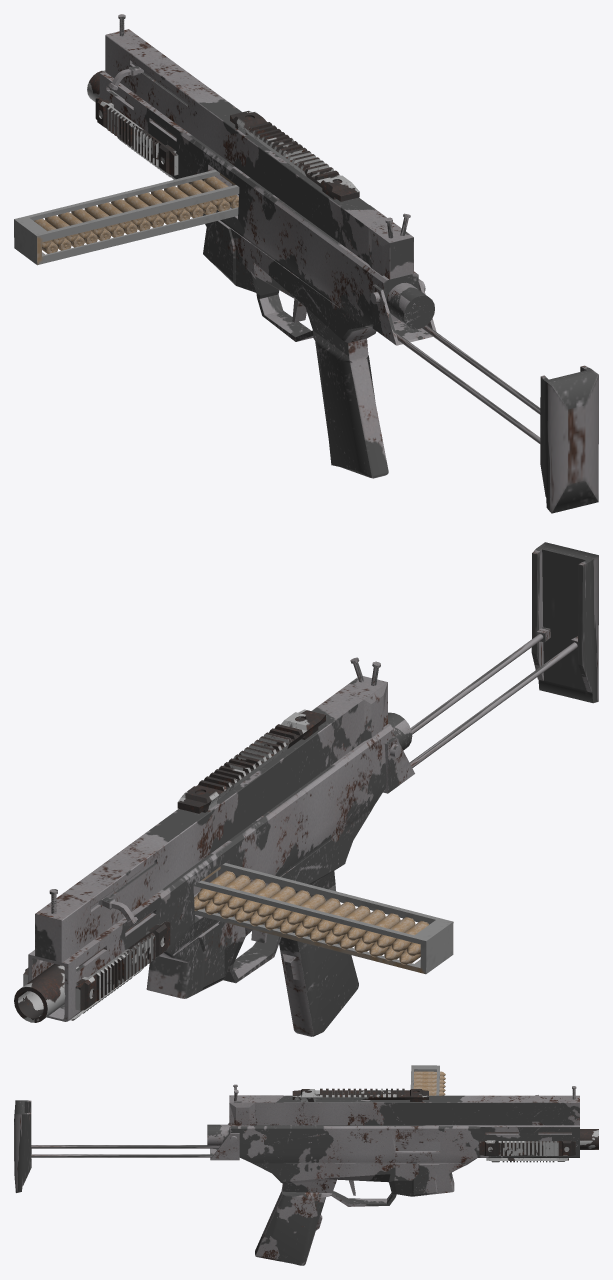
Rendered from Submachinegun.fbx.
3 renders of one model, top to bottom at view 1: azimuth 30°, elevation 25°; view 2: azimuth 150°, elevation 25°; view 3: azimuth 270°, elevation 25°, orthographic. The views are drawn at different scales.
Visible parts, largest first — view 1: pCube46, pCube32, pCube44, pCube15, pCube9, pCylinder31, pCube31, pCylinder35, pCylinder34; view 2: pCube46, pCube32, pCube44, pCube15, pCube9, pCylinder30, pCylinder35, pCylinder34, pCube31; view 3: pCube46, pCube15, pCube32, pCube8, pCylinder35, pCylinder34, pCube31, pCylinder30, pCylinder31, pCube44, pCube28.
Boxes of the visible parts, box(x1,y1,x2,y2) form: pCube46: box(99, 29, 418, 478); pCube32: box(540, 365, 598, 513); pCube44: box(14, 169, 239, 265); pCube15: box(230, 110, 359, 201); pCube9: box(95, 97, 178, 175); pCylinder31: box(386, 282, 434, 329); pCube31: box(372, 279, 436, 345); pCylinder35: box(395, 332, 540, 443); pCylinder34: box(422, 325, 540, 414); pCube46: box(28, 676, 393, 1036); pCube32: box(531, 542, 598, 703); pCube44: box(194, 863, 453, 974); pCube15: box(177, 709, 325, 813); pCube9: box(75, 921, 170, 1010); pCylinder30: box(14, 913, 150, 1022); pCylinder35: box(409, 642, 577, 767); pCylinder34: box(410, 634, 543, 734); pCube31: box(383, 737, 414, 793); pCube46: box(229, 1095, 579, 1265); pCube15: box(292, 1088, 428, 1101); pCube32: box(14, 1100, 31, 1192); pCube8: box(479, 1140, 575, 1155); pCylinder35: box(31, 1145, 219, 1148); pCylinder34: box(31, 1154, 213, 1157); pCube31: box(210, 1123, 239, 1160); pCylinder30: box(485, 1129, 598, 1149); pCylinder31: box(207, 1124, 229, 1146); pCube44: box(410, 1065, 439, 1095); pCube28: box(486, 1158, 568, 1162).
Size of the model in its own units: 35.35 by 39.58 by 119.
